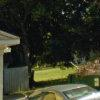Tree: (22, 6, 94, 68)
